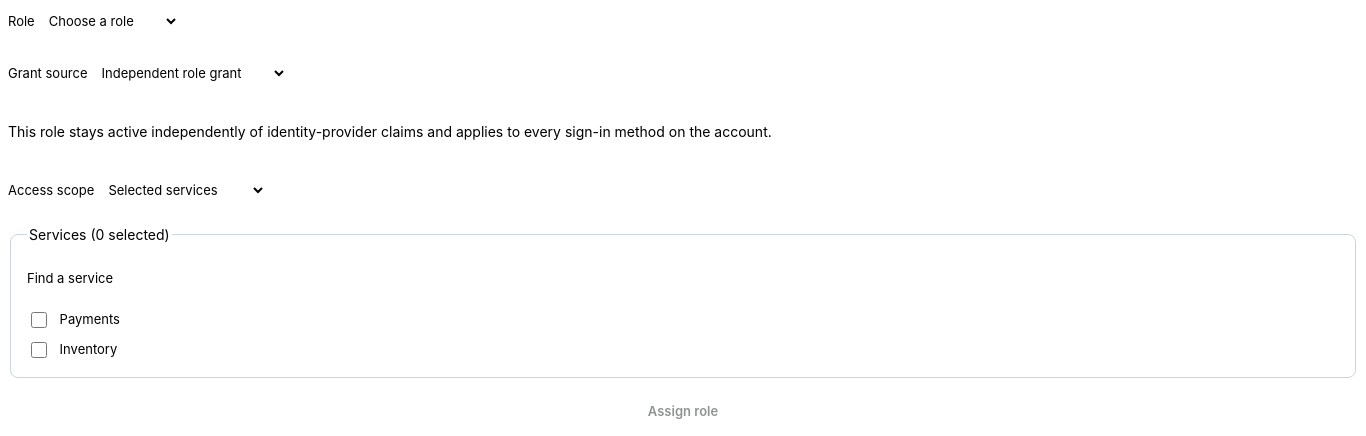
requires deliberate OIDC grants and confirmation of global access
Expected: the dropdown labelled "Grant source" shows "Independent role grant", [88,55,286,91]
Step 1. Select "Global access" in the dropdown labelled "Access scope" → coordinates (180, 190), box [94,172,266,208]
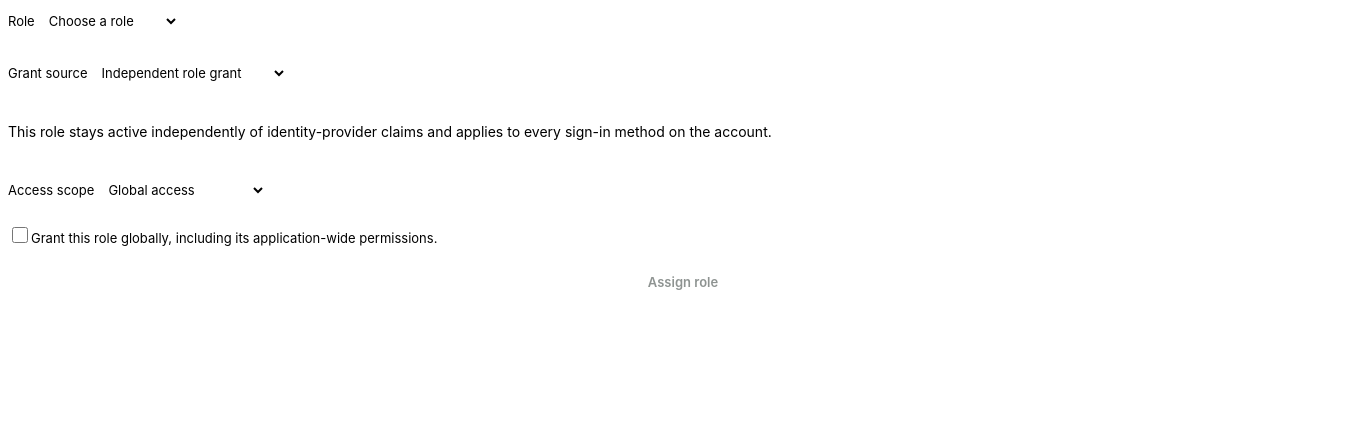
Now the checkbox labelled "Grant this role globally" is not checked, box [12,227,28,243]
